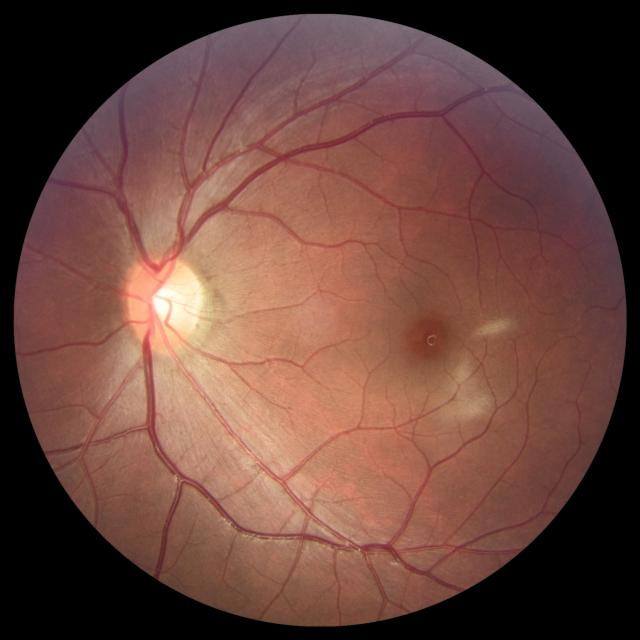OC: (150, 280, 191, 327)
OD: (123, 252, 206, 355)
